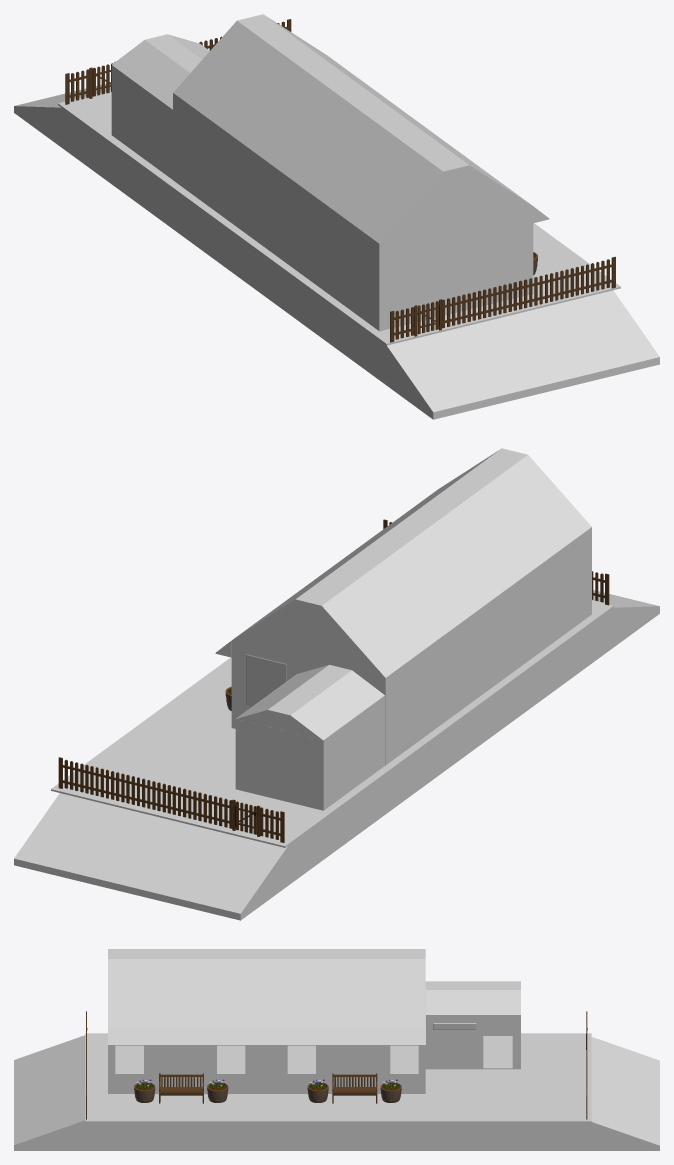
File: StationTest2.fbx
3 views of the same model, one above another, from view 1: azimuth 30°, elevation 25°; view 2: azimuth 150°, elevation 25°; view 3: azimuth 270°, elevation 25° (orthographic). The views are drawn at different scales.
Visible parts, largest first — view 1: Cube.003, Cube, Plane.178, Cube.004, Cube.006; view 2: Cube.003, Cube, Plane.178, Cube.004, Cube.006, Cube.008; view 3: Cube.003, Cube, Plane.178, Cube.005, Cube.004, Cube.006, Plane.009, Plane.290.
Boxes of the visible parts, bbox=[...] form: Cube.003: bbox=[173, 14, 533, 331]; Cube: bbox=[14, 83, 659, 419]; Plane.178: bbox=[58, 90, 620, 345]; Cube.004: bbox=[111, 43, 209, 179]; Cube.006: bbox=[112, 34, 209, 108]; Cube.003: bbox=[231, 448, 591, 765]; Cube: bbox=[14, 590, 659, 920]; Plane.178: bbox=[51, 600, 613, 847]; Cube.004: bbox=[235, 674, 385, 810]; Cube.006: bbox=[236, 664, 384, 739]; Cube.008: bbox=[246, 654, 286, 706]; Cube.003: bbox=[108, 949, 425, 1093]; Cube: bbox=[14, 1035, 659, 1150]; Plane.178: bbox=[85, 1033, 591, 1122]; Cube.005: bbox=[108, 1026, 425, 1045]; Cube.004: bbox=[425, 982, 520, 1069]; Cube.006: bbox=[426, 981, 520, 1014]; Plane.009: bbox=[159, 1073, 203, 1103]; Plane.290: bbox=[332, 1073, 377, 1103].
Size of the model in its own units: 2883 by 2188 by 8932.
